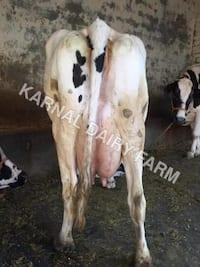cow: (41, 18, 150, 266), (166, 65, 199, 157), (0, 147, 25, 189)
